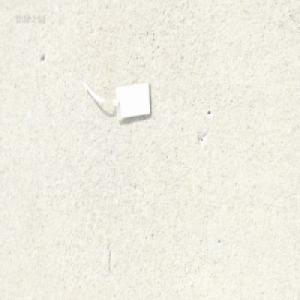LuggageTag: (82, 72, 153, 125)
